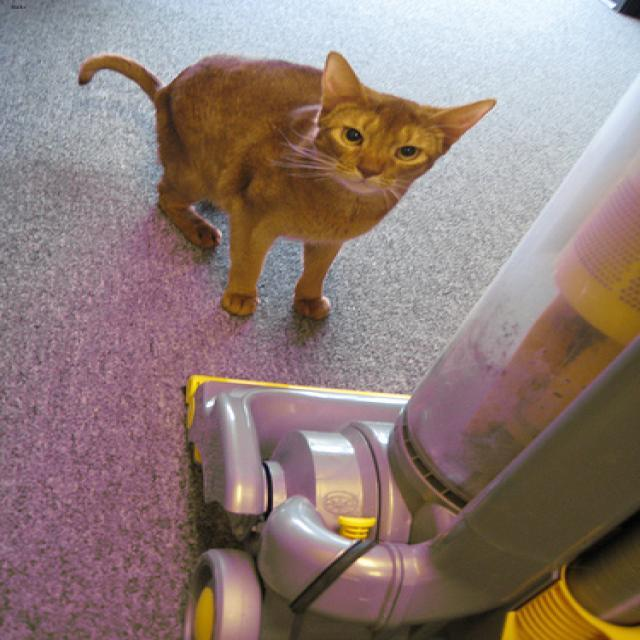Abyssinian: (298, 45, 508, 209)
